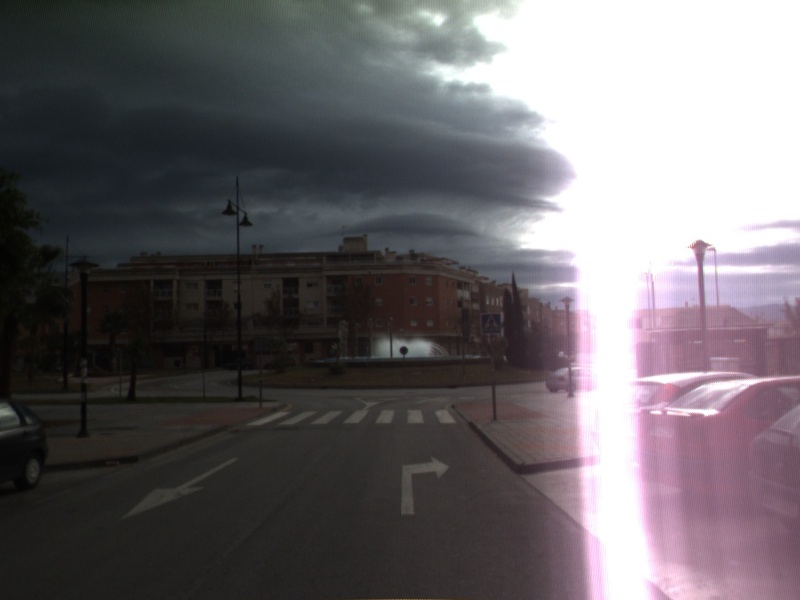RIGHT: (398, 454, 452, 517)
